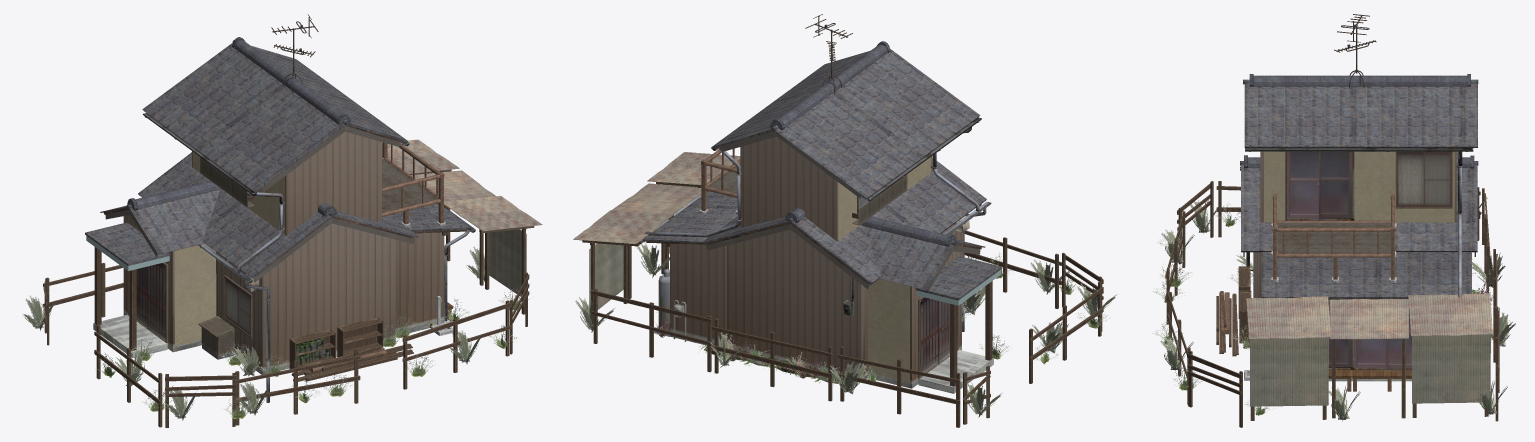
The model's file is houseset14.fbx.
The picture shows the model from 3 angles, left to right: view 1: azimuth 30°, elevation 25°; view 2: azimuth 150°, elevation 25°; view 3: azimuth 270°, elevation 25°; orthographic projection. The views are drawn at different scales.
Visible parts, largest first — view 1: houseset14; view 2: houseset14; view 3: houseset14.
Boxes of the visible parts, left/top/right/bottom form: houseset14: left=22, top=14, right=542, bottom=427; houseset14: left=573, top=14, right=1116, bottom=427; houseset14: left=1152, top=14, right=1515, bottom=427.
Size of the model in its own units: 1158 by 839 by 846.
13 materials, 13 textured.
